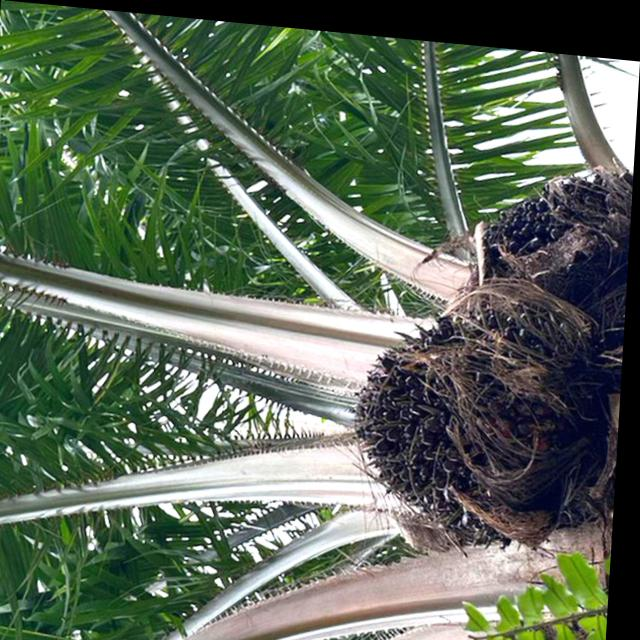almost: (339, 277, 620, 556)
